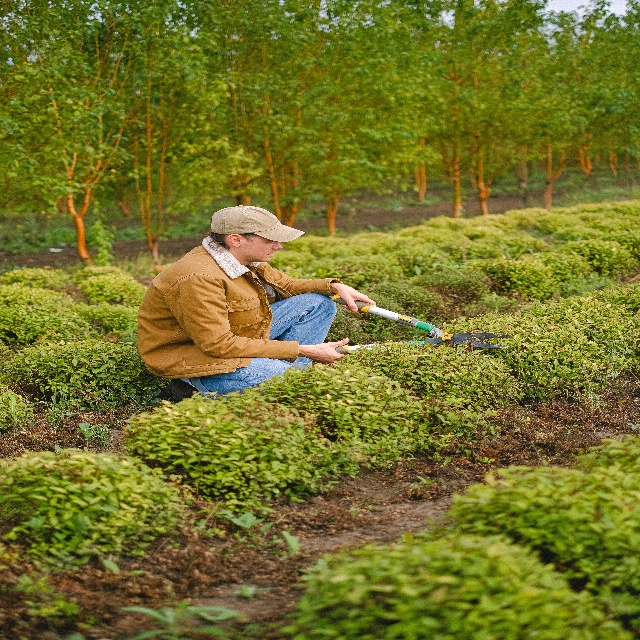Sin_guantes: (338, 280, 377, 316), (305, 336, 351, 363)
